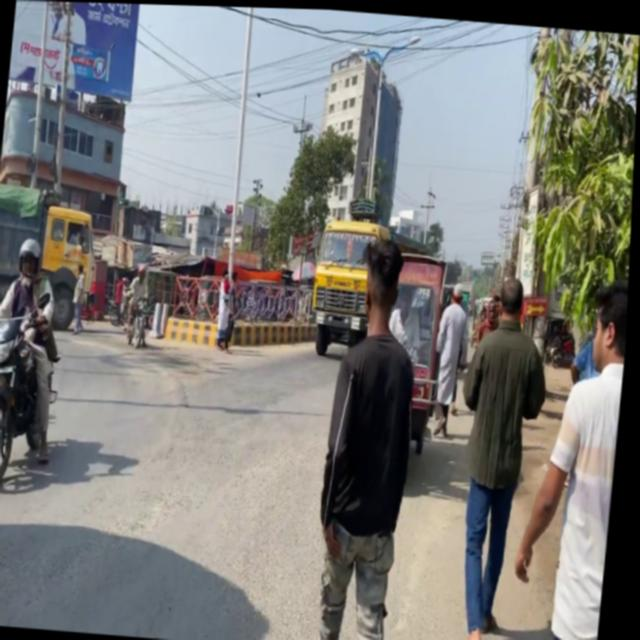Construction-barrier: (164, 308, 322, 354), (167, 315, 221, 345)
Fallen-tree: (125, 292, 158, 349), (547, 325, 581, 366), (105, 293, 127, 326)
Garbage: (380, 247, 453, 454)
Garbage-bin: (311, 232, 432, 640), (510, 268, 631, 640), (442, 270, 559, 640), (0, 234, 75, 463), (431, 284, 476, 435), (71, 262, 92, 335)
Light-pole: (222, 5, 258, 279)
Pothole: (0, 298, 591, 640), (387, 337, 587, 640)
Traffic-cone: (301, 211, 457, 454), (0, 181, 106, 333)
